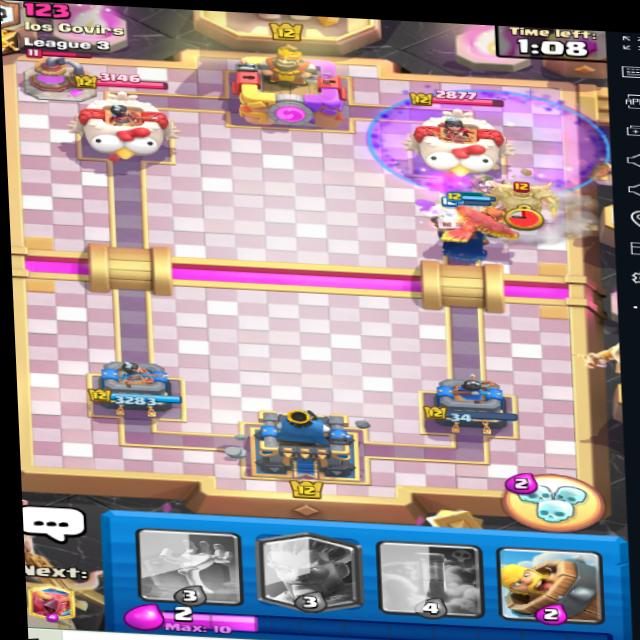elixir-collector: (26, 48, 99, 103)
pekka: (484, 183, 561, 236)
